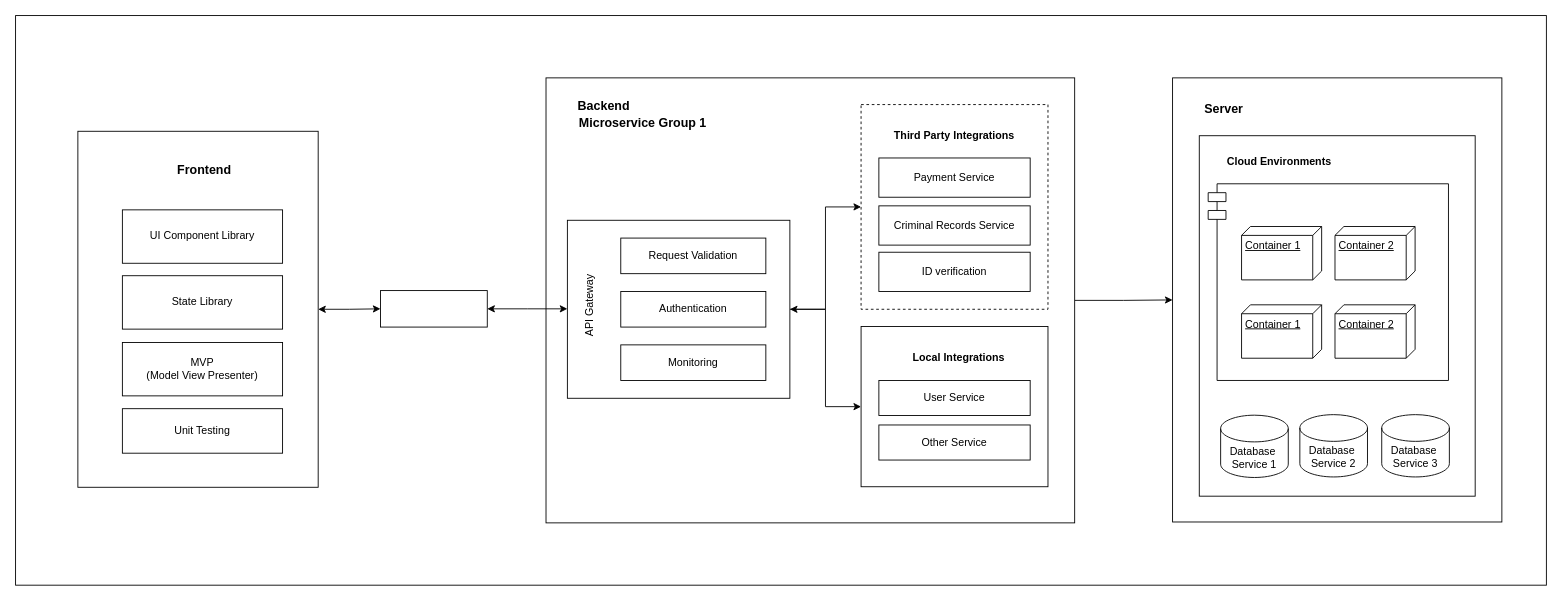
This 1562x601 diagram has some shape labels left out. The box of each missing label's shape, as (x1, y1, x2, y2) in pixels:
GraphQL requests: (380, 290, 487, 327)
Orchestrator: (1207, 183, 1448, 380)
